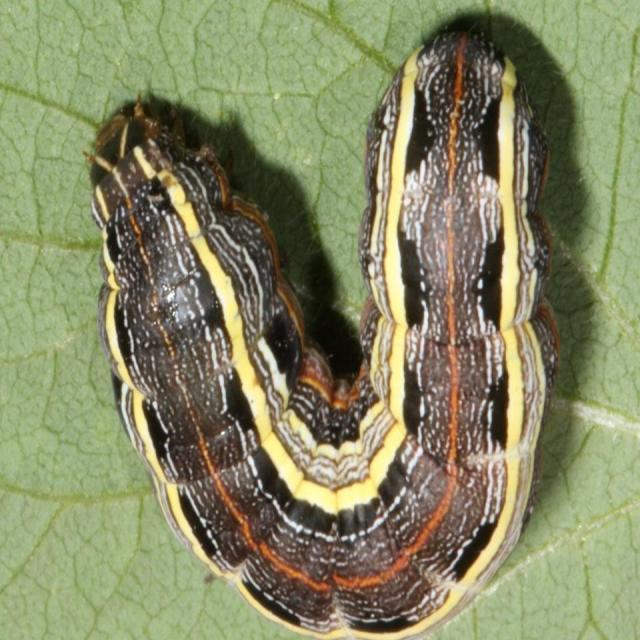army worm: (87, 12, 560, 637)
